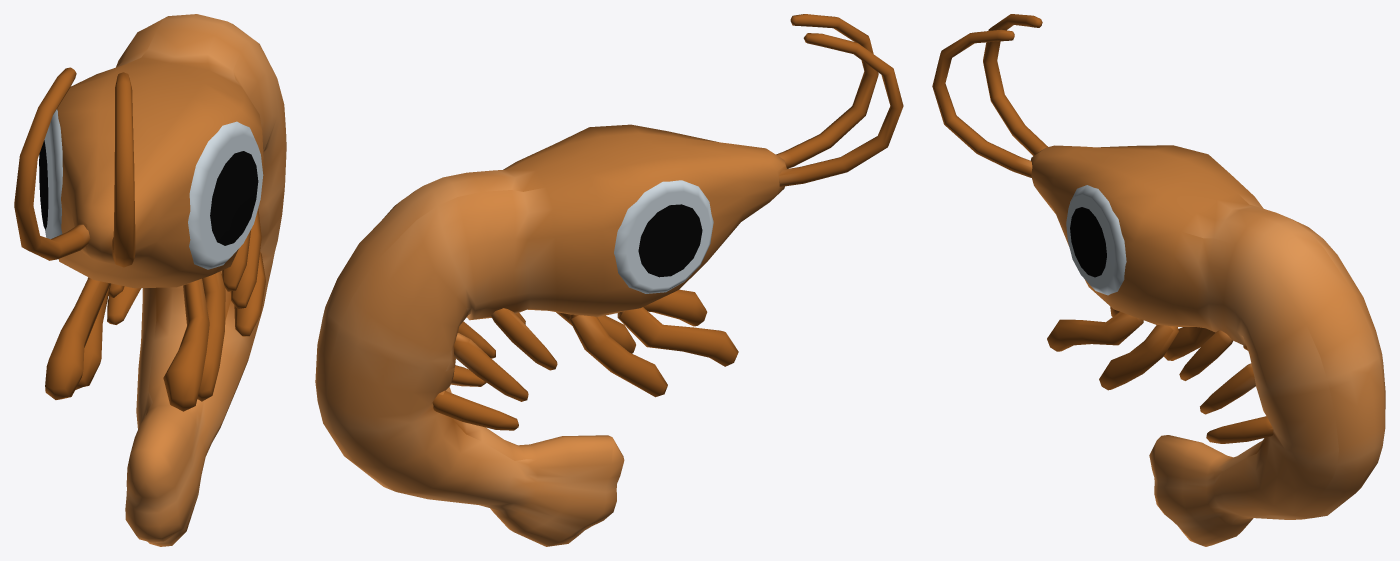
The model's file is Prawn.glb.
3 renders of one model, left to right at view 1: azimuth 30°, elevation 25°; view 2: azimuth 150°, elevation 25°; view 3: azimuth 270°, elevation 25°, orthographic. The views are drawn at different scales.
Parts seen in each view (by area): view 1: 129; view 2: 129; view 3: 129.
Boxes of the visible parts, x1,y1,x2,y2 form: 129: (14,14,286,546); 129: (315,14,903,546); 129: (932,14,1385,546).
Size of the model in its own units: 0.5135 by 0.6061 by 0.5548.
